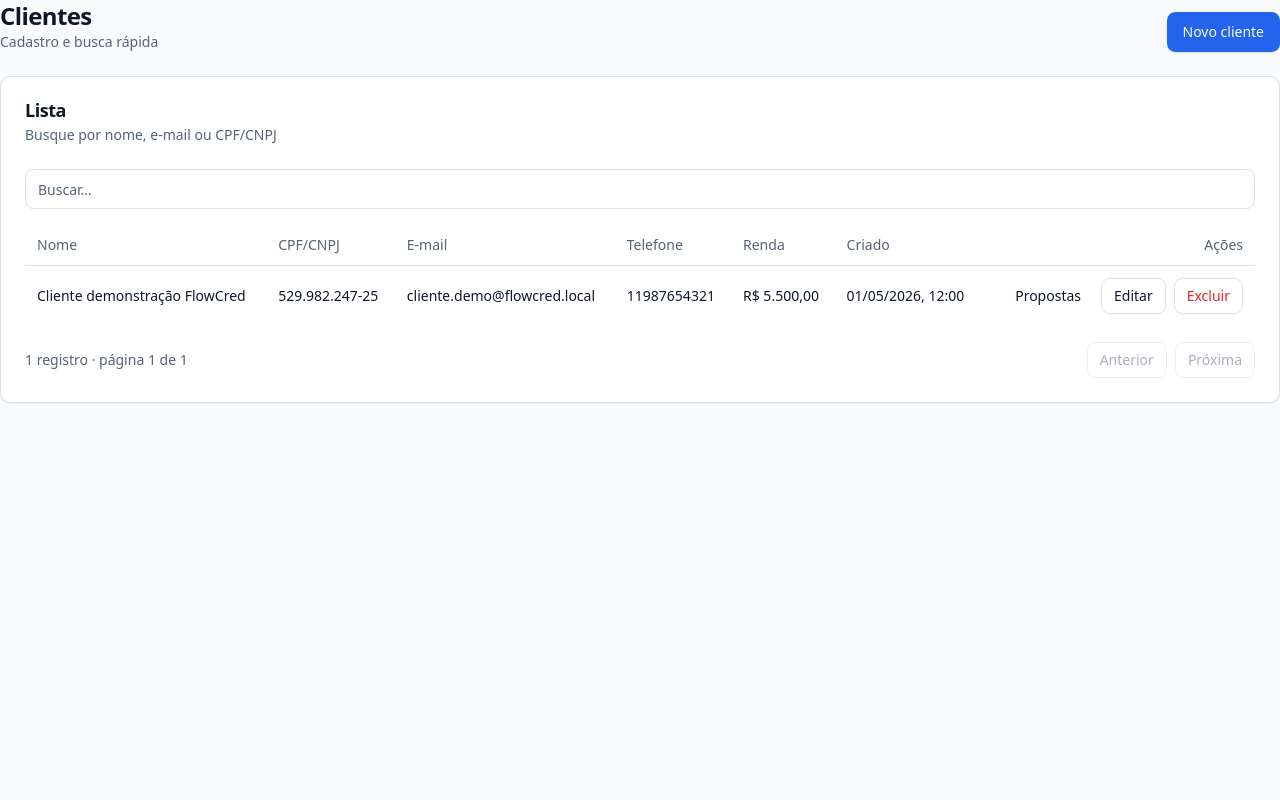
Scenario: ClientsPage › valida o formulário antes de enviar e cria cliente
Later steps or results of the test are not shown.
expect the text "Cliente demonstração FlowCred" is shown: met, box [25,265,266,326]
Step 1. Click the button "Novo cliente" → (1223, 32), box [1166,12,1279,52]
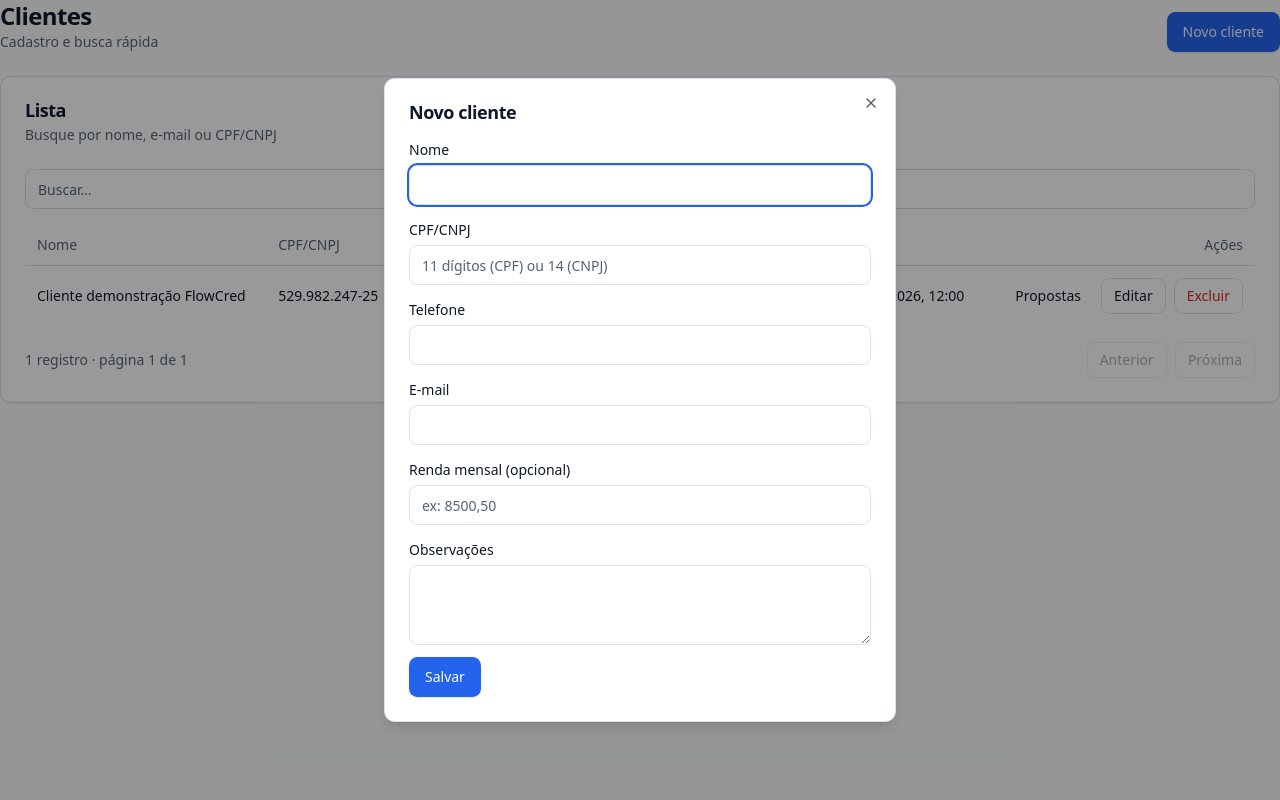
Step 2. Click the button "Salvar" → (445, 677), box [409,657,481,697]
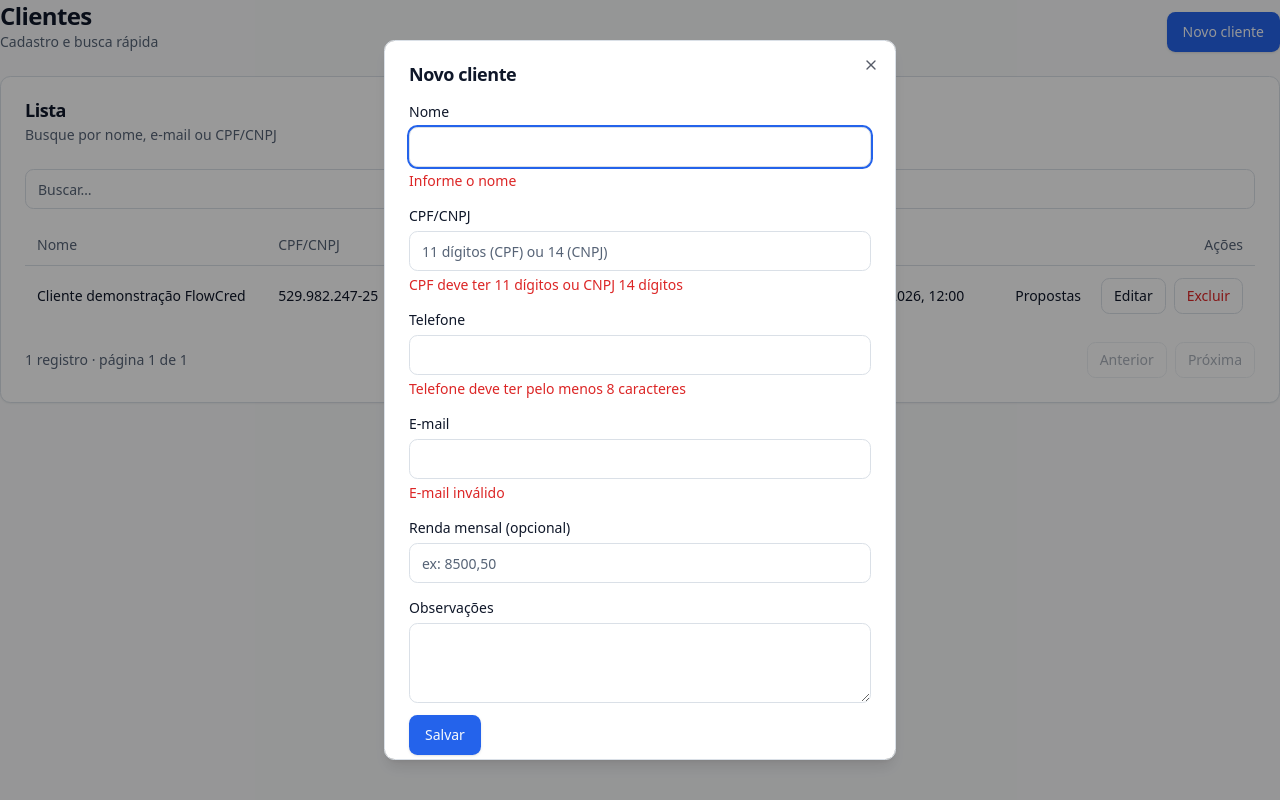
expect the text "Informe o nome" is shown: met, box [409,171,516,190]
